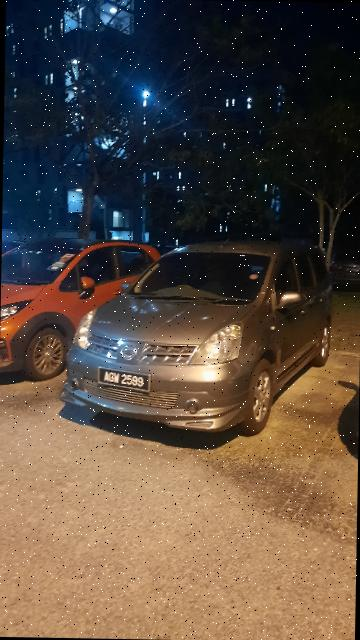License_Plate: (98, 366, 153, 397)
car: (65, 237, 336, 443), (1, 231, 166, 386)
